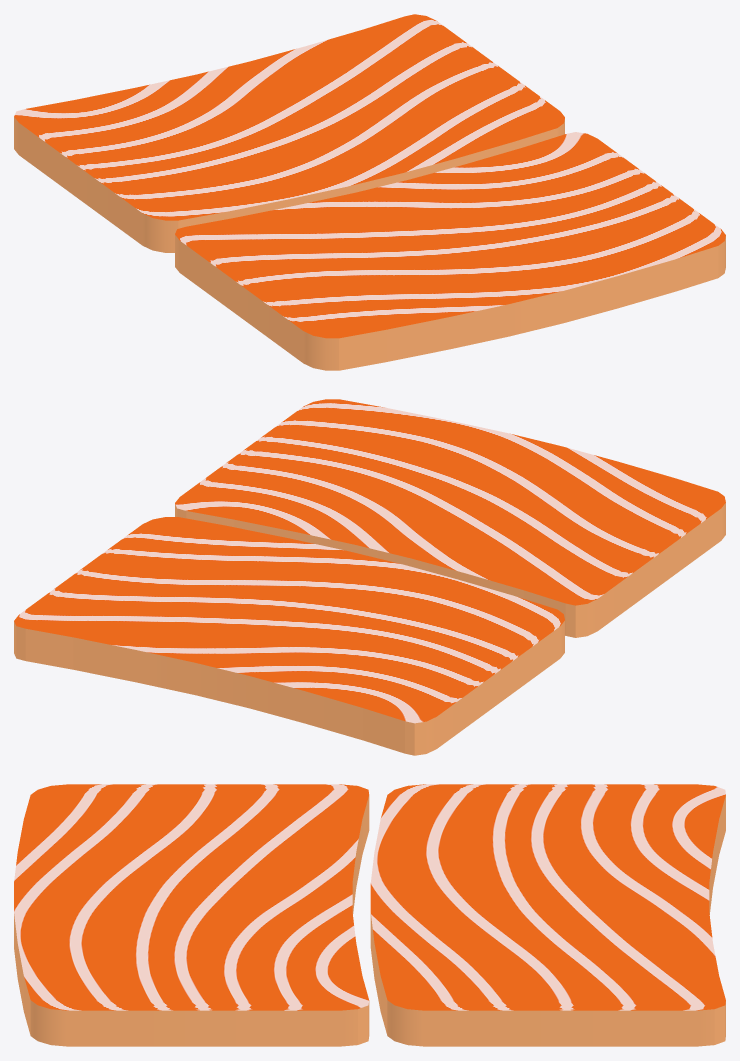
The model's file is Salmon_Slice_Salmon_0.glb.
3 views of the same model, one above another, from view 1: azimuth 30°, elevation 25°; view 2: azimuth 150°, elevation 25°; view 3: azimuth 270°, elevation 25° (orthographic). The views are drawn at different scales.
Visible parts, largest first — view 1: Salmon_Slice_Salmon_0; view 2: Salmon_Slice_Salmon_0; view 3: Salmon_Slice_Salmon_0.
Boxes of the visible parts, bbox=[...] form: Salmon_Slice_Salmon_0: bbox=[14, 14, 725, 370]; Salmon_Slice_Salmon_0: bbox=[14, 399, 725, 755]; Salmon_Slice_Salmon_0: bbox=[14, 784, 725, 1046].
Bounding box in the file's own units: 0.1472 × 0.0109 × 0.1959.
1 material, 1 textured.
